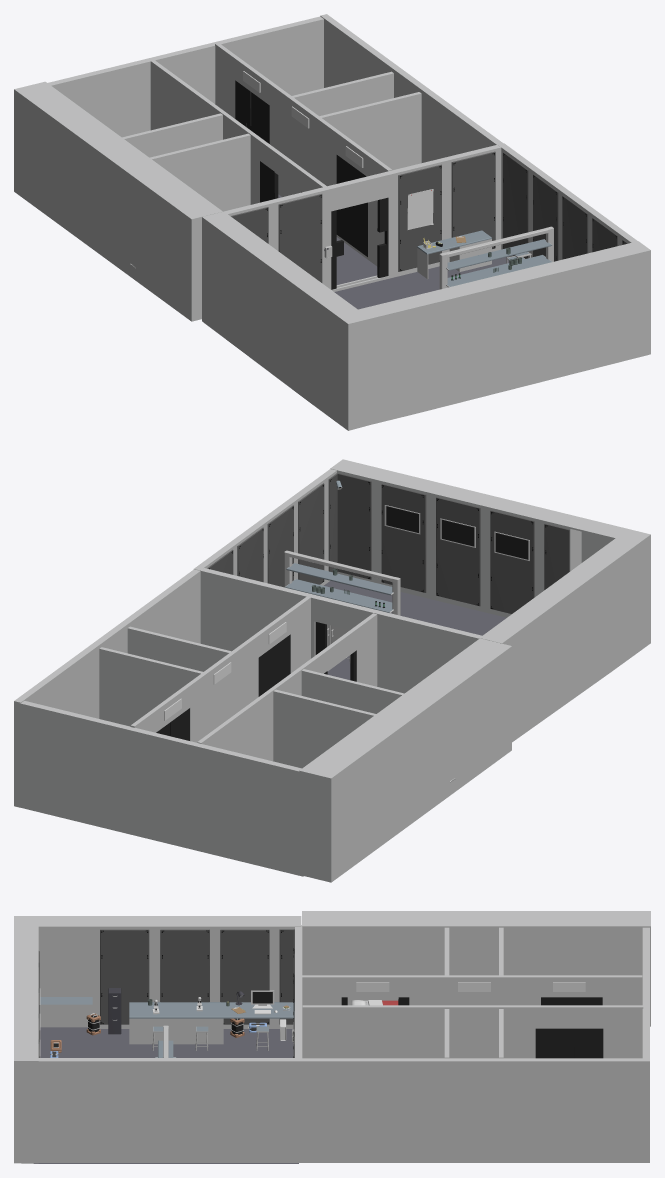
File: EarthLab_Week4.fbx
The picture shows the model from 3 angles, top to bottom: view 1: azimuth 30°, elevation 25°; view 2: azimuth 150°, elevation 25°; view 3: azimuth 270°, elevation 25°; orthographic projection. The views are drawn at different scales.
Visible parts, largest first — view 1: LabWall, BedroomWall3, BedroomWall2, BedroomWall5, LabWall1, BedroomWall, BedroomWall1, BedroomWall7, BesdroomWall, polySurface539, polySurface588, polySurface208 (+16 smaller); view 2: BedroomWall2, LabWall, BedroomWall3, LabWall1, BedroomWall5, BedroomWall, BedroomWall1, BedroomWall6, BedroomWall4, polySurface209, polySurface234, polySurface208 (+14 smaller); view 3: BedroomWall, LabWall2, BedroomWall3, LabWall, BedroomWall5, BedroomWall1, LabFloor, Desk_Wall, polySurface423, polySurface448, polySurface473, polySurface498 (+7 smaller).
Part boxes in pixels (box(x1,y1,x2,y2)): LabWall: box(202, 211, 650, 430); BedroomWall3: box(14, 81, 222, 321); BedroomWall2: box(48, 16, 323, 137); BedroomWall5: box(215, 43, 391, 266); LabWall1: box(224, 144, 501, 291); BedroomWall: box(320, 14, 502, 162); BedroomWall1: box(150, 60, 326, 204); BedroomWall7: box(319, 92, 421, 170); BesdroomWall: box(150, 133, 250, 211); polySurface539: box(451, 151, 495, 248); polySurface588: box(278, 194, 322, 282); polySurface208: box(439, 226, 553, 289); BedroomWall2: box(17, 701, 303, 876); LabWall: box(330, 459, 650, 742); BedroomWall3: box(299, 638, 511, 882); LabWall1: box(198, 568, 481, 693); BedroomWall5: box(130, 596, 310, 742); BedroomWall: box(14, 569, 200, 806); BedroomWall1: box(197, 613, 377, 761); BedroomWall6: box(99, 647, 202, 726); BedroomWall4: box(273, 689, 375, 768); polySurface209: box(436, 497, 480, 606); polySurface234: box(381, 484, 426, 592); polySurface208: box(284, 550, 400, 646); BedroomWall: box(302, 1058, 649, 1162); LabWall2: box(38, 1058, 302, 1162); BedroomWall3: box(302, 911, 650, 1026); LabWall: box(14, 916, 301, 1163); BedroomWall5: box(302, 1005, 643, 1058); BedroomWall1: box(302, 975, 642, 1058); LabFloor: box(33, 1027, 298, 1163); Desk_Wall: box(129, 1002, 294, 1044); polySurface423: box(100, 929, 149, 1024); polySurface448: box(160, 929, 209, 1002); polySurface473: box(220, 929, 269, 1024); polySurface498: box(279, 929, 294, 1024).
Size of the model in its own units: 13.54 by 4.41 by 24.2.
